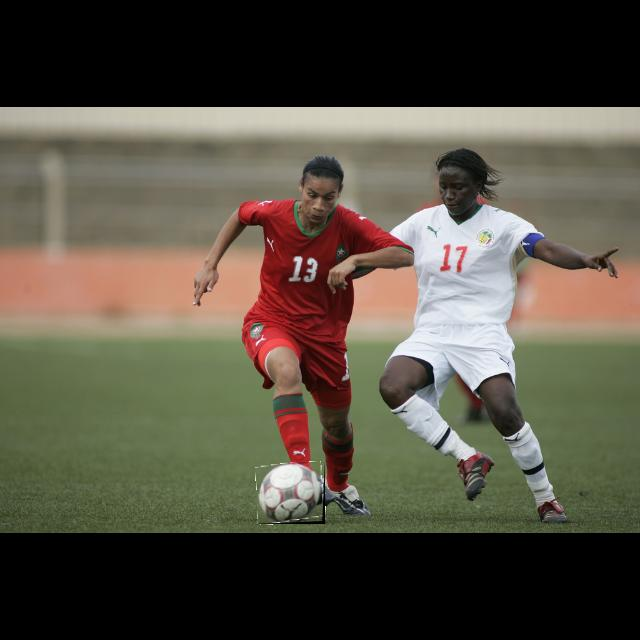Football: (257, 462, 325, 524)
